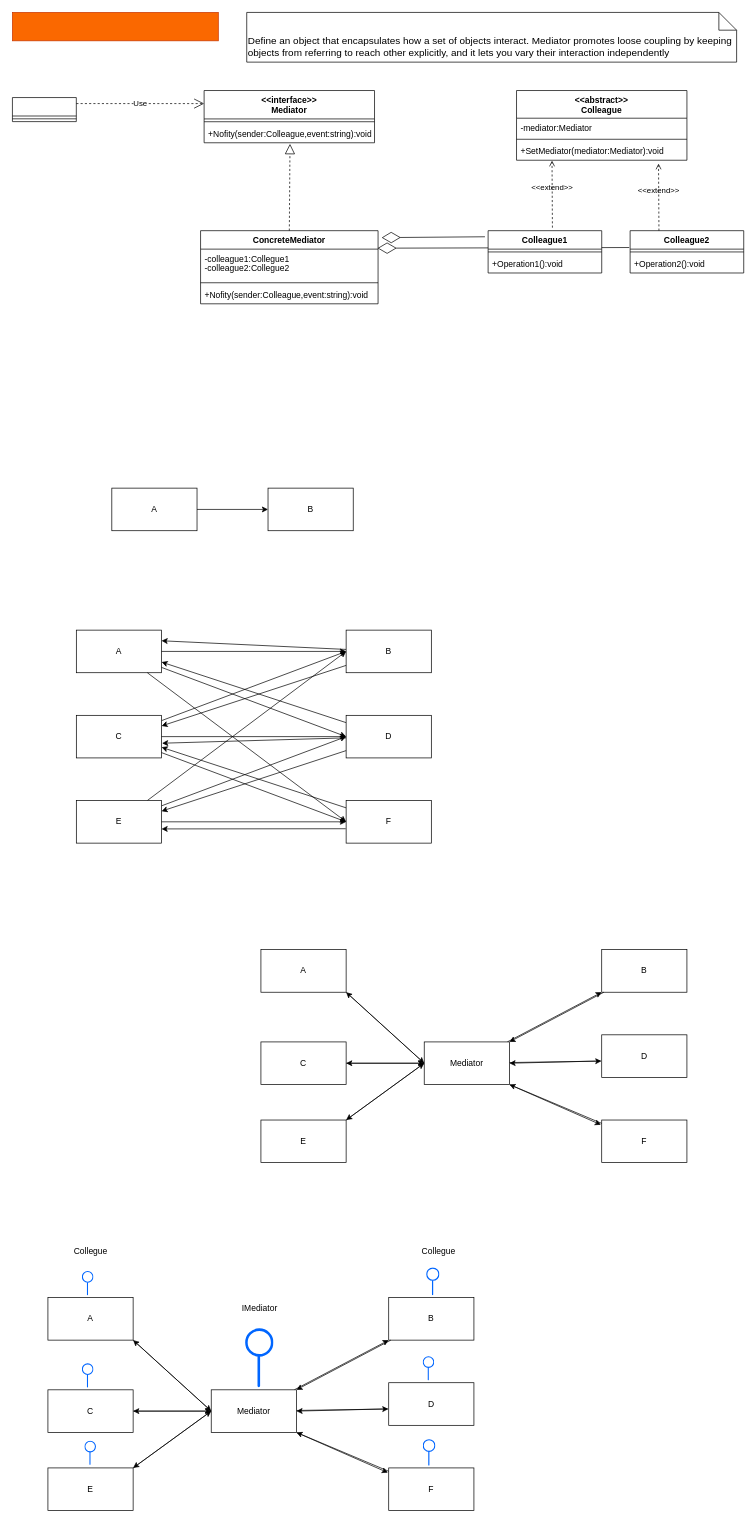
Some shapes in this 756 by 1523 pixel diagram are drawn without their labels. The shapes that lost their labels are listed below. From the top down, each one's centre as x and y in pixels, then its label:
the point at 115,26: Mediator Design Pattern
the point at 44,109: Client
